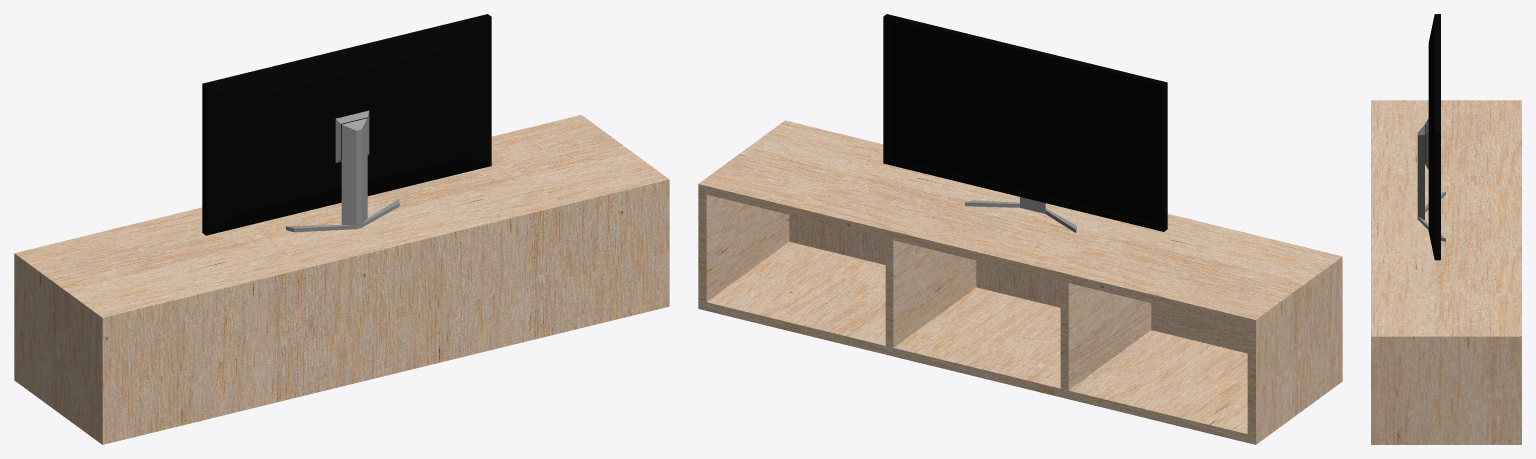
Rendered from tv_stand.fbx.
3 renders of one model, left to right at view 1: azimuth 30°, elevation 25°; view 2: azimuth 150°, elevation 25°; view 3: azimuth 270°, elevation 25°, orthographic. The views are drawn at different scales.
Visible parts, largest first — view 1: Cube.001, Cube; view 2: Cube.001, Cube; view 3: Cube.001, Cube.
Boxes of the visible parts, bbox=[...] form: Cube.001: bbox=[14, 115, 669, 444]; Cube: bbox=[202, 14, 491, 235]; Cube.001: bbox=[698, 120, 1342, 444]; Cube: bbox=[883, 14, 1167, 232]; Cube.001: bbox=[1371, 100, 1521, 444]; Cube: bbox=[1417, 14, 1445, 260].
Bounding box in the file's own units: 79.49 × 39.76 × 21.44.
